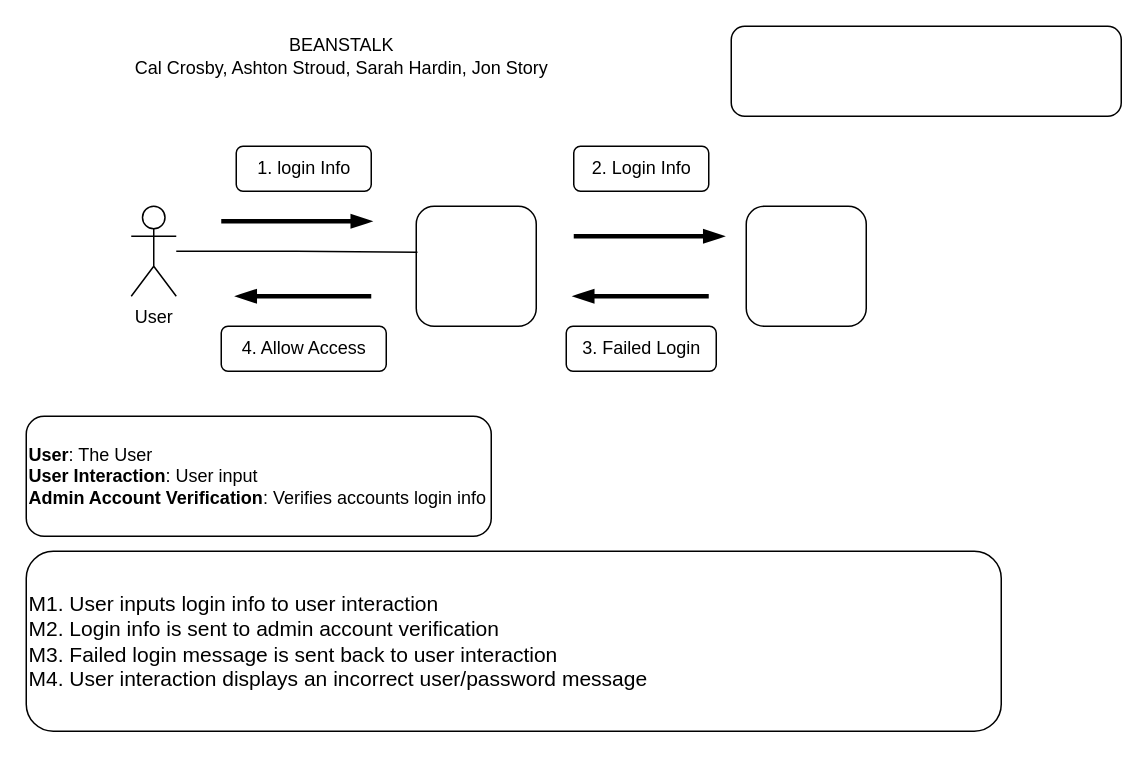
Image size: 1148x758. Some labels were removed from this diagram. The shapes that lost their labels are listed below. From the top down, each one's centre as x and y in pixels, then its label:
At point (925, 70): "Login Interaction Diagram".
At point (475, 265): "<<user interaction>> User Interaction".
At point (805, 265): "<<entity>> Admin Account Verification".
